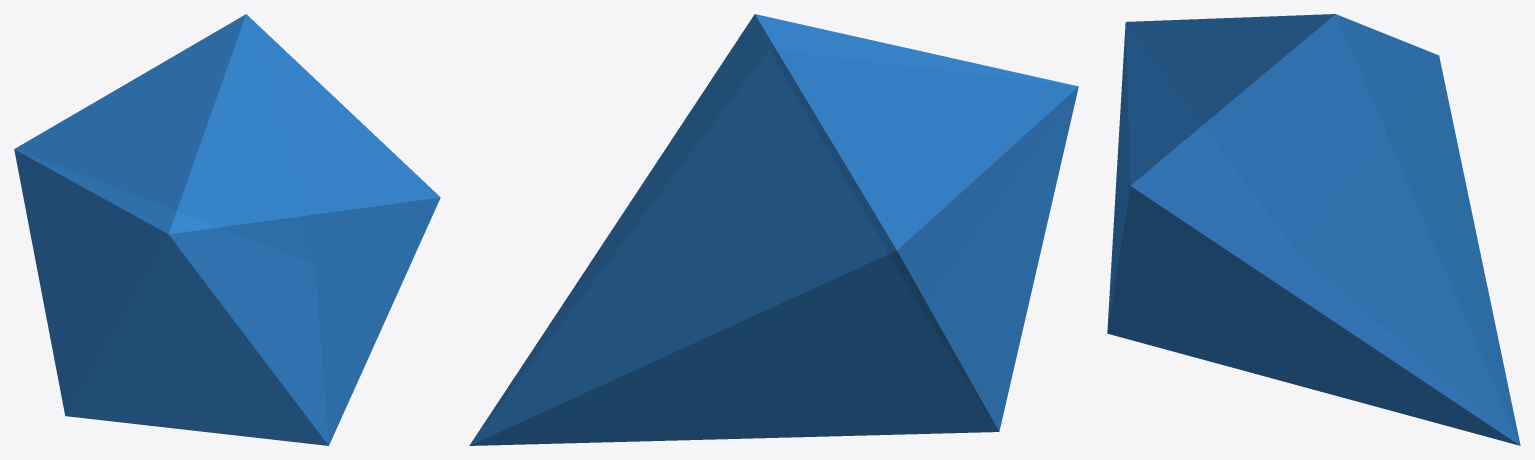
Rendered from crystal3_small.FBX.
3 renders of one model, left to right at view 1: azimuth 30°, elevation 25°; view 2: azimuth 150°, elevation 25°; view 3: azimuth 270°, elevation 25°, orthographic. The views are drawn at different scales.
Visible parts, largest first — view 1: crystal3; view 2: crystal3; view 3: crystal3.
Part boxes in pixels (x1=…): crystal3: x1=14, y1=14, x2=440, y2=445; crystal3: x1=469, y1=14, x2=1078, y2=445; crystal3: x1=1107, y1=14, x2=1520, y2=445.
Size of the model in its own units: 13.66 by 12.9 by 13.66.
